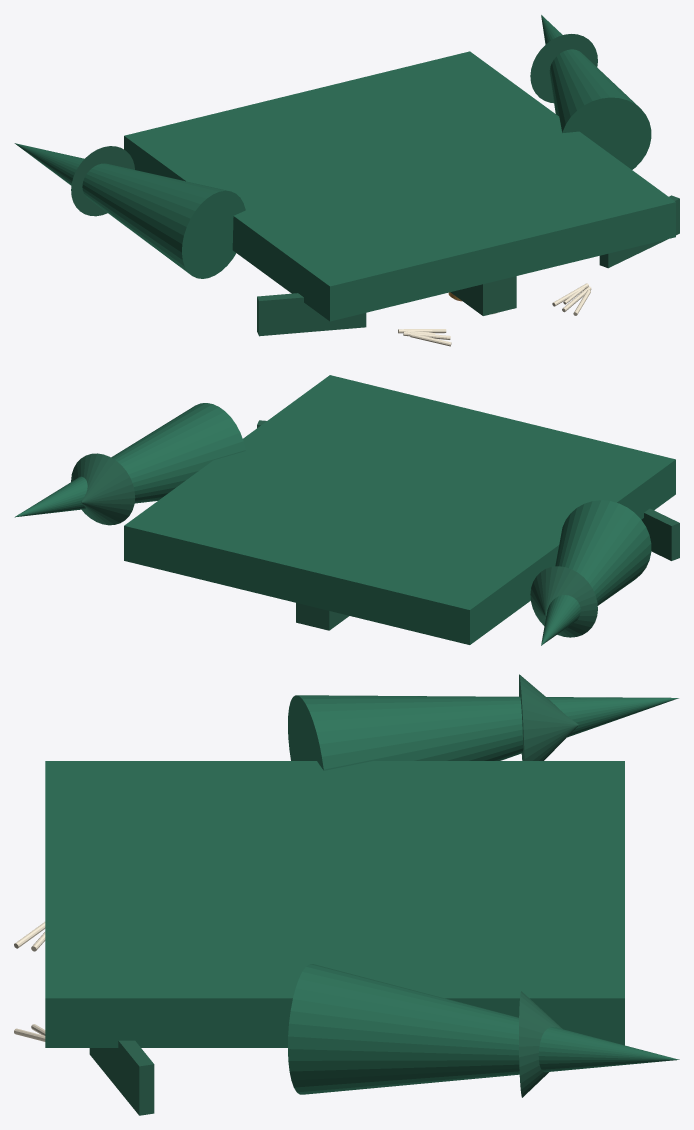
The model's file is shirt.glb.
3 renders of one model, top to bottom at view 1: azimuth 30°, elevation 25°; view 2: azimuth 150°, elevation 25°; view 3: azimuth 270°, elevation 25°, orthographic. The views are drawn at different scales.
Visible parts, largest first — view 1: shirt_body, sleeve_left, sleeve_right, collar_left, cuff_right, placket, cuff_left, collar_right; view 2: shirt_body, sleeve_right, sleeve_left, cuff_right, cuff_left, collar_left, placket; view 3: shirt_body, sleeve_right, sleeve_left, collar_right, cuff_left, cuff_right.
Boxes of the visible parts, box(x1,y1,x2,y2) form: shirt_body: box(124, 51, 675, 321); sleeve_left: box(14, 143, 245, 278); sleeve_right: box(541, 15, 651, 169); collar_left: box(257, 293, 366, 336); cuff_right: box(530, 34, 597, 103); placket: box(450, 276, 516, 315); cuff_left: box(71, 146, 134, 216); collar_right: box(599, 195, 679, 268); shirt_body: box(124, 375, 675, 644); sleeve_right: box(14, 403, 245, 517); sleeve_left: box(541, 500, 651, 645); cuff_right: box(71, 453, 135, 525); cuff_left: box(530, 566, 597, 637); collar_left: box(641, 508, 679, 560); placket: box(296, 603, 348, 630); shirt_body: box(45, 761, 624, 1047); sleeve_right: box(288, 964, 679, 1094); sleeve_left: box(288, 695, 678, 770); collar_right: box(89, 1040, 154, 1115); cuff_left: box(519, 674, 578, 760); cuff_right: box(519, 991, 562, 1097).
Size of the model in its own units: 9.75 by 1.98 by 7.58.
